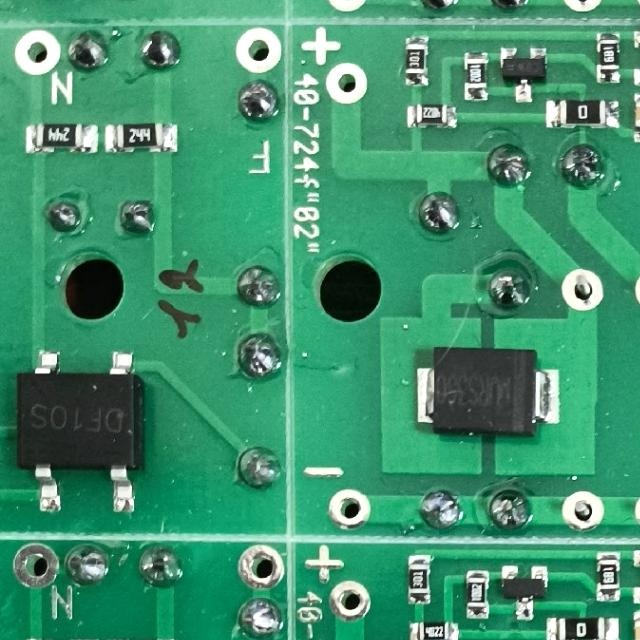chip-resistor: (544, 97, 622, 131), (105, 121, 179, 156), (25, 121, 100, 155), (545, 615, 622, 640), (461, 48, 491, 102), (405, 102, 460, 131), (594, 549, 622, 604), (595, 29, 622, 86), (403, 33, 430, 88), (406, 552, 433, 606), (465, 568, 490, 621), (407, 621, 462, 640)
diode: (415, 345, 563, 438)
ic: (12, 346, 148, 518)
transistor: (499, 564, 551, 622), (499, 44, 549, 103)
